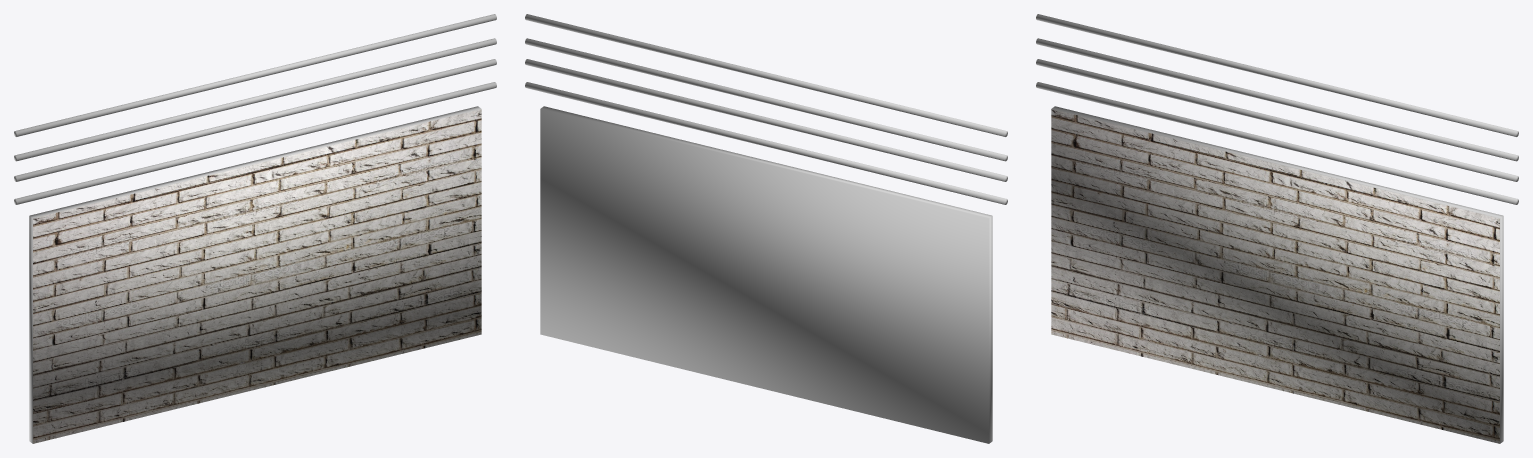
The model's file is WallTubed_Map2.fbx.
3 renders of one model, left to right at view 1: azimuth 30°, elevation 25°; view 2: azimuth 150°, elevation 25°; view 3: azimuth 330°, elevation 25°, orthographic.
Parts seen in each view (by area): view 1: Cube; view 2: Cube; view 3: Cube.
Boxes of the visible parts, x1,y1,x2,y2 form: Cube: [14, 14, 496, 443]; Cube: [525, 14, 1007, 443]; Cube: [1036, 14, 1518, 443].
Size of the model in its own units: 13.75 by 8.63 by 0.1888.
3 materials, 1 textured.
